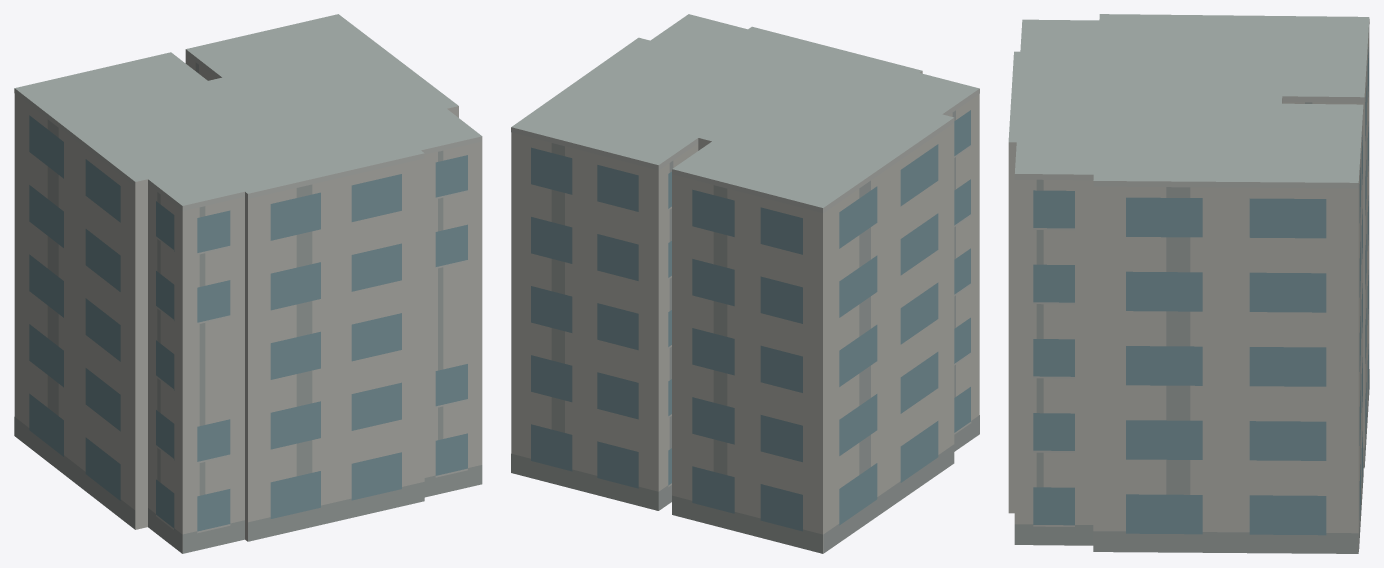
The model's file is survey-upis-32768867.glb.
The picture shows the model from 3 angles, left to right: view 1: azimuth 30°, elevation 25°; view 2: azimuth 150°, elevation 25°; view 3: azimuth 270°, elevation 25°; orthographic projection. The views are drawn at different scales.
Visible parts, largest first — view 1: survey-upis-32768867.tmp; view 2: survey-upis-32768867.tmp; view 3: survey-upis-32768867.tmp.
Boxes of the visible parts, left/top/right/bottom form: survey-upis-32768867.tmp: left=14, top=14, right=482, bottom=553; survey-upis-32768867.tmp: left=511, top=14, right=979, bottom=553; survey-upis-32768867.tmp: left=1008, top=14, right=1369, bottom=553.
Size of the model in its own units: 15.53 by 15.9 by 14.03.
